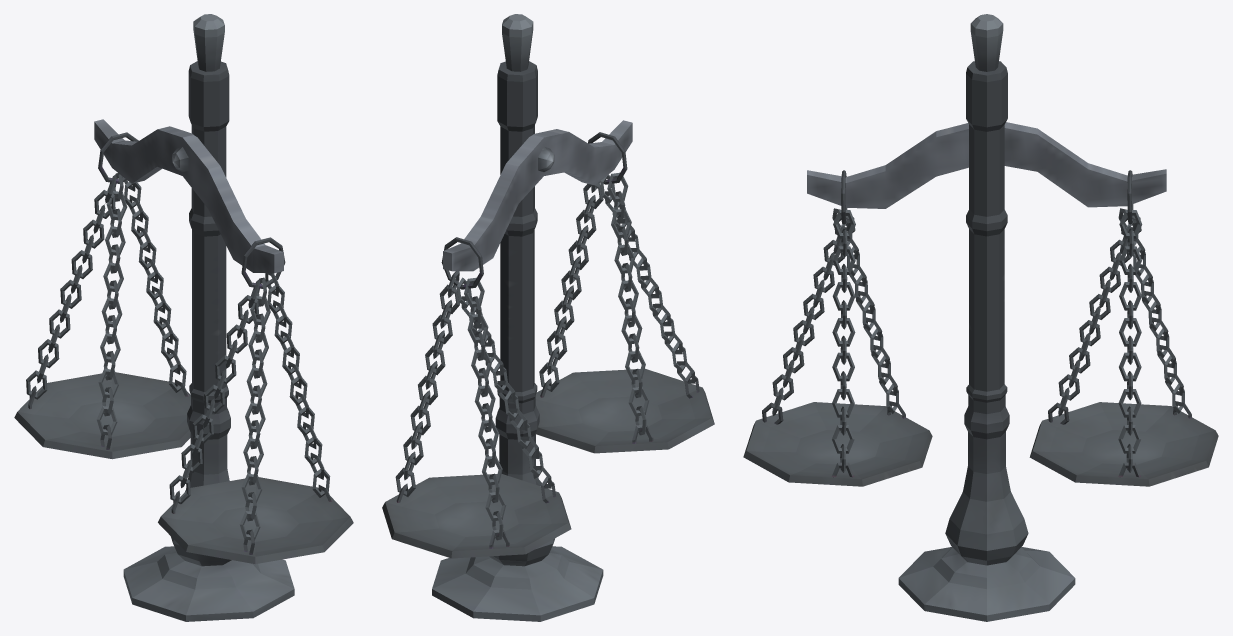
Rendered from balanza.glb.
The picture shows the model from 3 angles, left to right: view 1: azimuth 30°, elevation 25°; view 2: azimuth 150°, elevation 25°; view 3: azimuth 270°, elevation 25°; orthographic projection.
Bounding box in the file's own units: 0.1388 × 0.4032 × 0.3064.
1 material, 1 textured.
